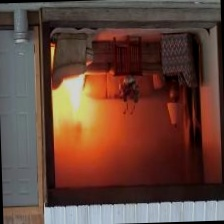fire: (44, 74, 94, 132)
